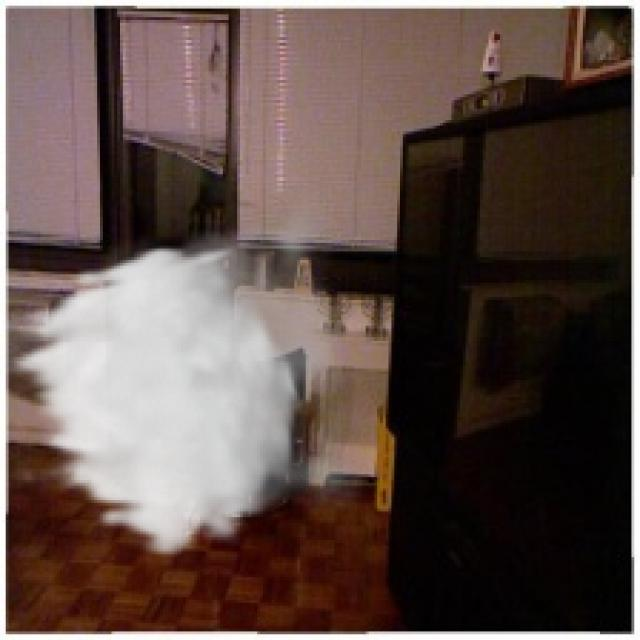smoke: (3, 177, 371, 560)
